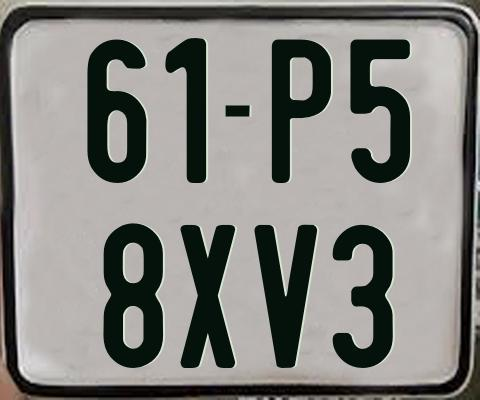1: (162, 35, 207, 186)
3: (329, 225, 391, 371)
5: (349, 37, 413, 185)
6: (86, 39, 151, 188)
8: (102, 221, 166, 372)
P: (270, 36, 332, 183)
V: (252, 224, 315, 371)
X: (180, 223, 236, 372)
